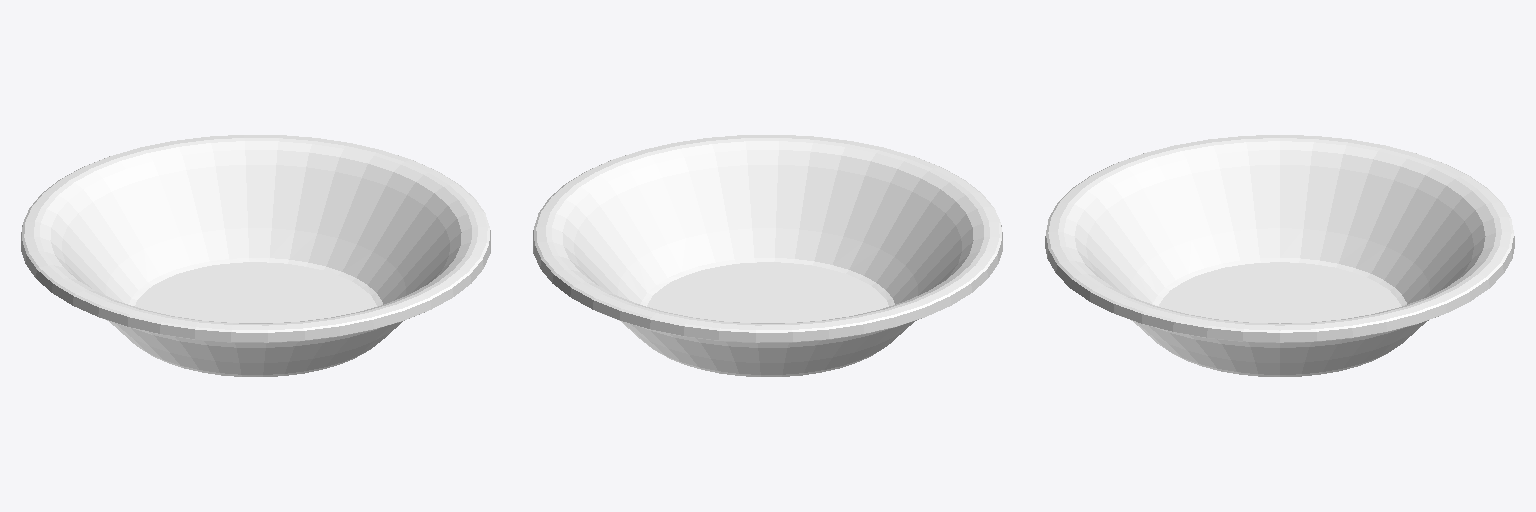
The robot description file, URDF, robot "bowl_13":
<?xml version="1.0"?>
<robot name="bowl_13">
  <material name="lambert1.020">
    <texture filename="visual/image0.png" />
    <color rgba="1 1 1 1" />
  </material>

  <link name="base_link">
    <inertial>
      <origin xyz="0 0 0" rpy="0 0 0" />
      <mass value="0.5" />
      <inertia ixx="0.001" ixy="0" ixz="0" iyy="0.001" iyz="0" izz="0.001" />
    </inertial>

    <visual>
      <origin xyz="0 0 0" rpy="0 0 0" />
      <geometry>
        <mesh filename="visual/model_normalized_0.obj" scale="0.125 0.125 0.125" />
      </geometry>
      <material name="lambert1.020" />
    </visual>

    <collision>
      <origin xyz="0 0 0" rpy="0 0 0" />
      <geometry>
        <mesh filename="collision/model_normalized_collision_22.obj" scale="0.125 0.125 0.125" />
      </geometry>
    </collision>
    <collision>
      <origin xyz="0 0 0" rpy="0 0 0" />
      <geometry>
        <mesh filename="collision/model_normalized_collision_23.obj" scale="0.125 0.125 0.125" />
      </geometry>
    </collision>
    <collision>
      <origin xyz="0 0 0" rpy="0 0 0" />
      <geometry>
        <mesh filename="collision/model_normalized_collision_21.obj" scale="0.125 0.125 0.125" />
      </geometry>
    </collision>
    <collision>
      <origin xyz="0 0 0" rpy="0 0 0" />
      <geometry>
        <mesh filename="collision/model_normalized_collision_20.obj" scale="0.125 0.125 0.125" />
      </geometry>
    </collision>
    <collision>
      <origin xyz="0 0 0" rpy="0 0 0" />
      <geometry>
        <mesh filename="collision/model_normalized_collision_24.obj" scale="0.125 0.125 0.125" />
      </geometry>
    </collision>
    <collision>
      <origin xyz="0 0 0" rpy="0 0 0" />
      <geometry>
        <mesh filename="collision/model_normalized_collision_30.obj" scale="0.125 0.125 0.125" />
      </geometry>
    </collision>
    <collision>
      <origin xyz="0 0 0" rpy="0 0 0" />
      <geometry>
        <mesh filename="collision/model_normalized_collision_18.obj" scale="0.125 0.125 0.125" />
      </geometry>
    </collision>
    <collision>
      <origin xyz="0 0 0" rpy="0 0 0" />
      <geometry>
        <mesh filename="collision/model_normalized_collision_19.obj" scale="0.125 0.125 0.125" />
      </geometry>
    </collision>
    <collision>
      <origin xyz="0 0 0" rpy="0 0 0" />
      <geometry>
        <mesh filename="collision/model_normalized_collision_31.obj" scale="0.125 0.125 0.125" />
      </geometry>
    </collision>
    <collision>
      <origin xyz="0 0 0" rpy="0 0 0" />
      <geometry>
        <mesh filename="collision/model_normalized_collision_25.obj" scale="0.125 0.125 0.125" />
      </geometry>
    </collision>
    <collision>
      <origin xyz="0 0 0" rpy="0 0 0" />
      <geometry>
        <mesh filename="collision/model_normalized_collision_27.obj" scale="0.125 0.125 0.125" />
      </geometry>
    </collision>
    <collision>
      <origin xyz="0 0 0" rpy="0 0 0" />
      <geometry>
        <mesh filename="collision/model_normalized_collision_26.obj" scale="0.125 0.125 0.125" />
      </geometry>
    </collision>
    <collision>
      <origin xyz="0 0 0" rpy="0 0 0" />
      <geometry>
        <mesh filename="collision/model_normalized_collision_9.obj" scale="0.125 0.125 0.125" />
      </geometry>
    </collision>
    <collision>
      <origin xyz="0 0 0" rpy="0 0 0" />
      <geometry>
        <mesh filename="collision/model_normalized_collision_8.obj" scale="0.125 0.125 0.125" />
      </geometry>
    </collision>
    <collision>
      <origin xyz="0 0 0" rpy="0 0 0" />
      <geometry>
        <mesh filename="collision/model_normalized_collision_6.obj" scale="0.125 0.125 0.125" />
      </geometry>
    </collision>
    <collision>
      <origin xyz="0 0 0" rpy="0 0 0" />
      <geometry>
        <mesh filename="collision/model_normalized_collision_7.obj" scale="0.125 0.125 0.125" />
      </geometry>
    </collision>
    <collision>
      <origin xyz="0 0 0" rpy="0 0 0" />
      <geometry>
        <mesh filename="collision/model_normalized_collision_5.obj" scale="0.125 0.125 0.125" />
      </geometry>
    </collision>
    <collision>
      <origin xyz="0 0 0" rpy="0 0 0" />
      <geometry>
        <mesh filename="collision/model_normalized_collision_4.obj" scale="0.125 0.125 0.125" />
      </geometry>
    </collision>
    <collision>
      <origin xyz="0 0 0" rpy="0 0 0" />
      <geometry>
        <mesh filename="collision/model_normalized_collision_0.obj" scale="0.125 0.125 0.125" />
      </geometry>
    </collision>
    <collision>
      <origin xyz="0 0 0" rpy="0 0 0" />
      <geometry>
        <mesh filename="collision/model_normalized_collision_1.obj" scale="0.125 0.125 0.125" />
      </geometry>
    </collision>
    <collision>
      <origin xyz="0 0 0" rpy="0 0 0" />
      <geometry>
        <mesh filename="collision/model_normalized_collision_3.obj" scale="0.125 0.125 0.125" />
      </geometry>
    </collision>
    <collision>
      <origin xyz="0 0 0" rpy="0 0 0" />
      <geometry>
        <mesh filename="collision/model_normalized_collision_2.obj" scale="0.125 0.125 0.125" />
      </geometry>
    </collision>
    <collision>
      <origin xyz="0 0 0" rpy="0 0 0" />
      <geometry>
        <mesh filename="collision/model_normalized_collision_17.obj" scale="0.125 0.125 0.125" />
      </geometry>
    </collision>
    <collision>
      <origin xyz="0 0 0" rpy="0 0 0" />
      <geometry>
        <mesh filename="collision/model_normalized_collision_16.obj" scale="0.125 0.125 0.125" />
      </geometry>
    </collision>
    <collision>
      <origin xyz="0 0 0" rpy="0 0 0" />
      <geometry>
        <mesh filename="collision/model_normalized_collision_28.obj" scale="0.125 0.125 0.125" />
      </geometry>
    </collision>
    <collision>
      <origin xyz="0 0 0" rpy="0 0 0" />
      <geometry>
        <mesh filename="collision/model_normalized_collision_14.obj" scale="0.125 0.125 0.125" />
      </geometry>
    </collision>
    <collision>
      <origin xyz="0 0 0" rpy="0 0 0" />
      <geometry>
        <mesh filename="collision/model_normalized_collision_15.obj" scale="0.125 0.125 0.125" />
      </geometry>
    </collision>
    <collision>
      <origin xyz="0 0 0" rpy="0 0 0" />
      <geometry>
        <mesh filename="collision/model_normalized_collision_29.obj" scale="0.125 0.125 0.125" />
      </geometry>
    </collision>
    <collision>
      <origin xyz="0 0 0" rpy="0 0 0" />
      <geometry>
        <mesh filename="collision/model_normalized_collision_11.obj" scale="0.125 0.125 0.125" />
      </geometry>
    </collision>
    <collision>
      <origin xyz="0 0 0" rpy="0 0 0" />
      <geometry>
        <mesh filename="collision/model_normalized_collision_10.obj" scale="0.125 0.125 0.125" />
      </geometry>
    </collision>
    <collision>
      <origin xyz="0 0 0" rpy="0 0 0" />
      <geometry>
        <mesh filename="collision/model_normalized_collision_12.obj" scale="0.125 0.125 0.125" />
      </geometry>
    </collision>
    <collision>
      <origin xyz="0 0 0" rpy="0 0 0" />
      <geometry>
        <mesh filename="collision/model_normalized_collision_13.obj" scale="0.125 0.125 0.125" />
      </geometry>
    </collision>
  </link>
</robot>

--- What the picture shows (computed from the rendered views, not written in the file) ---
3 views of the same robot in one strip: view 1: azimuth 30°, elevation 25°; view 2: azimuth 150°, elevation 25°; view 3: azimuth 270°, elevation 25° (orthographic).
Robot: bowl_13 — 1 links, 0 joints (none); root link base_link; default pose: every joint at zero.
Links seen in each view (by area): view 1: base_link; view 2: base_link; view 3: base_link.
Link boxes in pixels (bbox=[...]): base_link: bbox=[21, 135, 490, 376]; base_link: bbox=[533, 135, 1002, 376]; base_link: bbox=[1045, 135, 1514, 376].
Size in the robot's own frame: 0.125 by 0.125 by 0.0272 metres.
1 mesh visuals loaded from 1 distinct referenced files (1 OBJ).